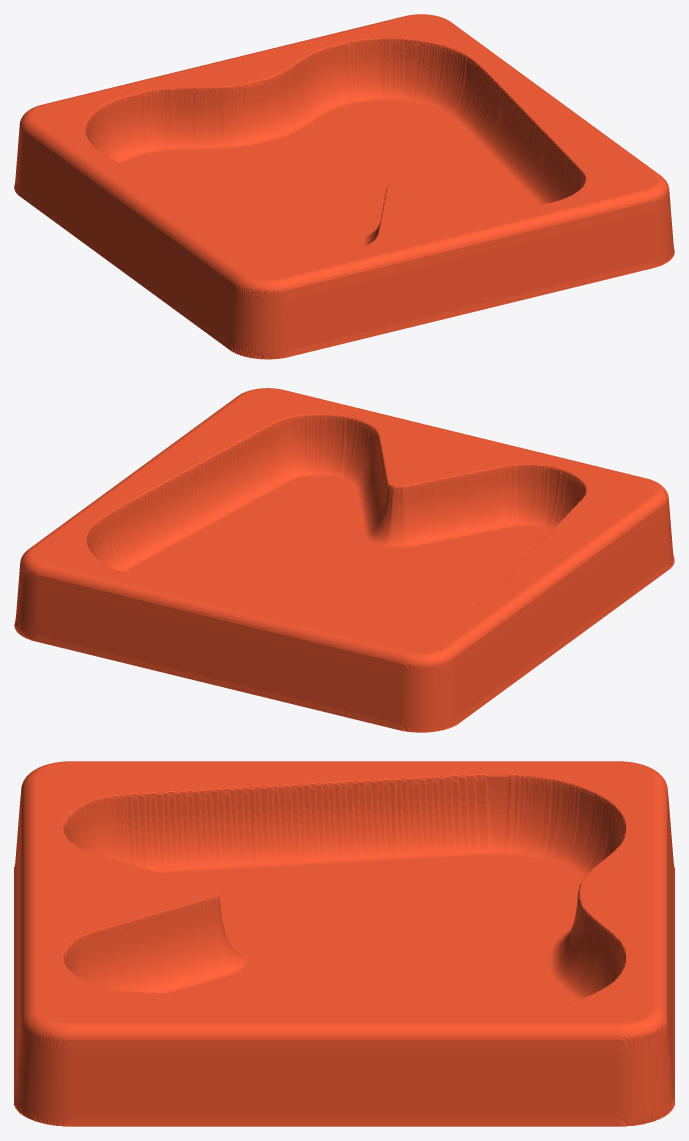
Rendered from mold.glb.
3 views of the same model, one above another, from view 1: azimuth 30°, elevation 25°; view 2: azimuth 150°, elevation 25°; view 3: azimuth 270°, elevation 25° (orthographic). The views are drawn at different scales.
Parts seen in each view (by area): view 1: geometry_0; view 2: geometry_0; view 3: geometry_0.
Boxes of the visible parts, x1,y1,x2,y2 form: geometry_0: [14, 14, 674, 359]; geometry_0: [14, 388, 674, 732]; geometry_0: [14, 761, 674, 1126].
Bounding box in the file's own units: 0.105 × 0.0165 × 0.105.
